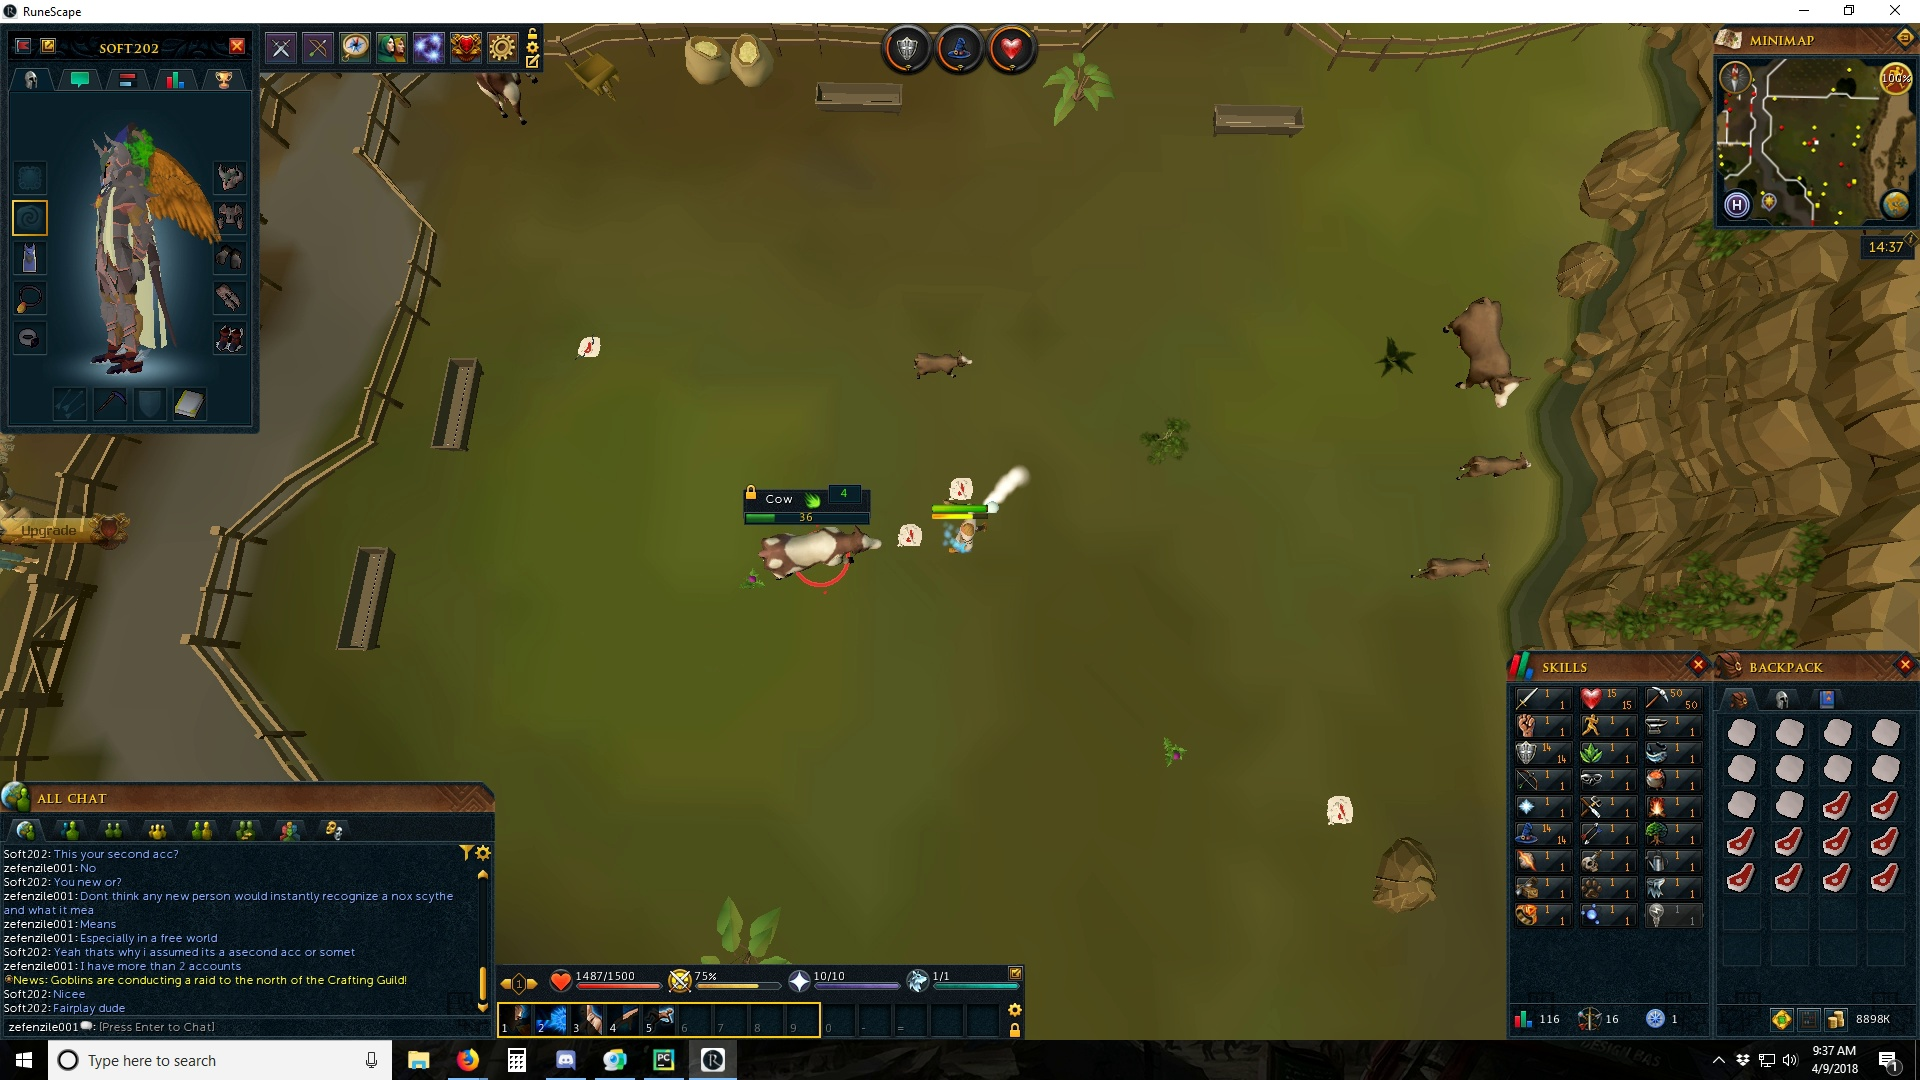calf: (1411, 550, 1498, 585), (1455, 452, 1536, 487), (907, 353, 977, 382)
cow: (1444, 297, 1532, 410), (756, 524, 887, 580)
cow_drop: (1323, 793, 1360, 829), (894, 520, 924, 550), (571, 334, 605, 360), (948, 477, 976, 505)
